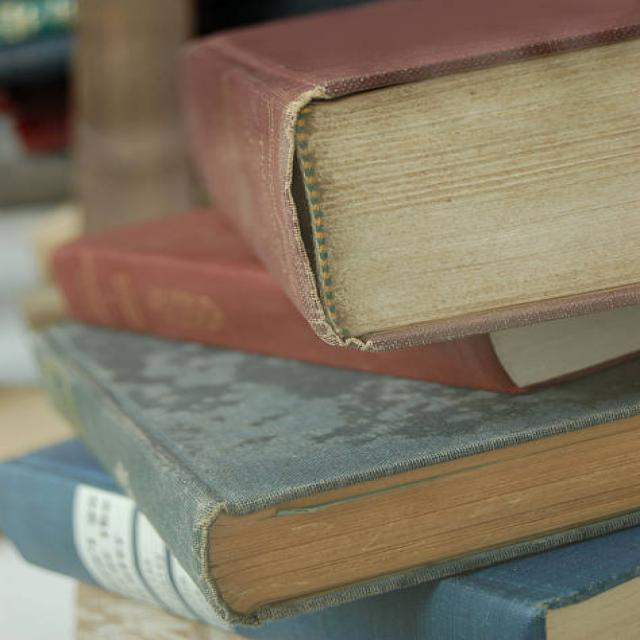electronic: (31, 318, 639, 627), (177, 0, 639, 357), (45, 203, 637, 394)
